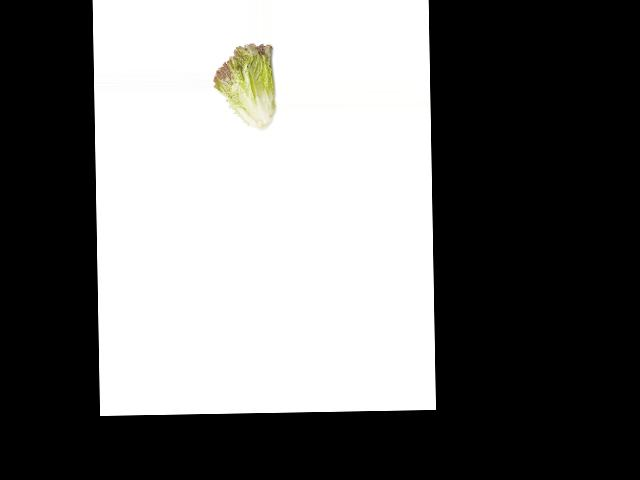lettuce: (213, 41, 274, 129)
